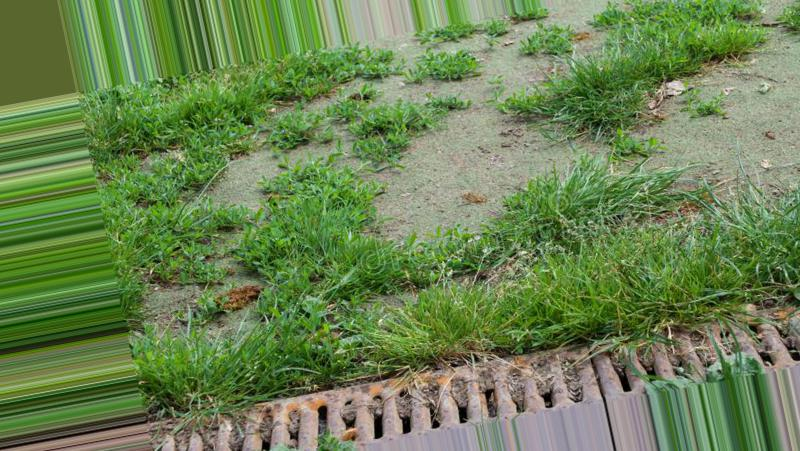patch: (710, 105, 800, 180), (425, 146, 487, 227), (386, 168, 425, 236), (503, 134, 562, 158), (663, 112, 703, 145), (390, 74, 430, 101), (225, 172, 263, 196), (453, 121, 490, 133), (500, 62, 512, 83)
